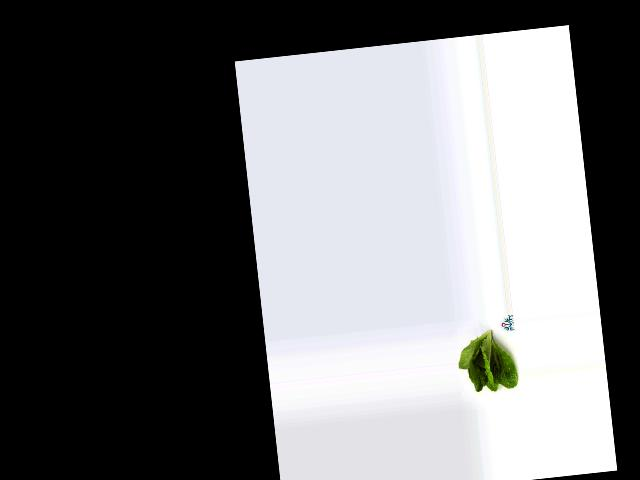lettuce: (454, 327, 518, 397)
